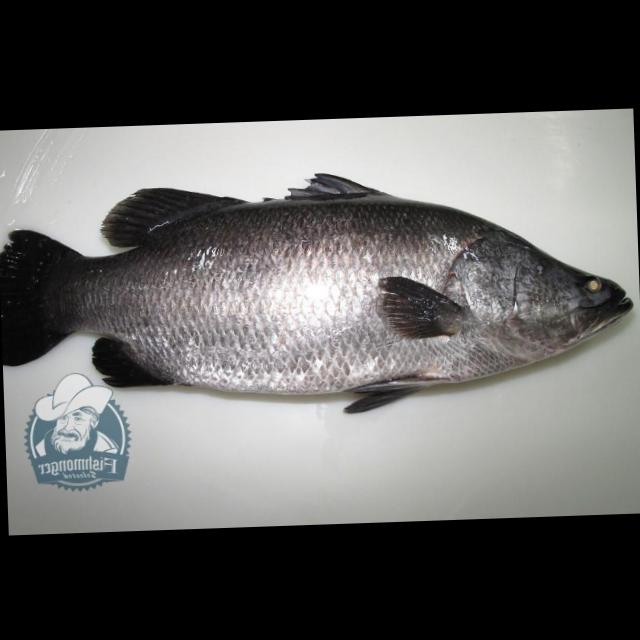Seabass: (0, 155, 636, 425)
